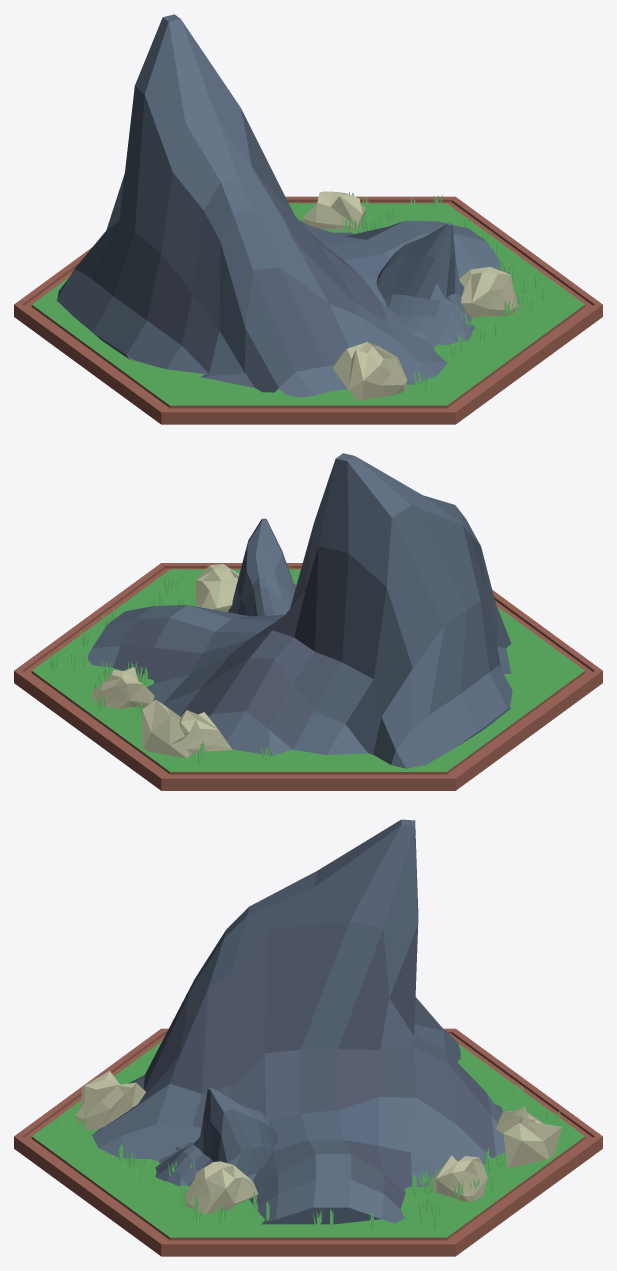
File: Hexagon_Mountain.glb
3 views of the same model, one above another, from view 1: azimuth 30°, elevation 25°; view 2: azimuth 150°, elevation 25°; view 3: azimuth 270°, elevation 25° (orthographic).
Parts seen in each view (by area): view 1: Plane, Circle, Plane.001, Sphere.005, Plane.017, Sphere.004, Sphere.001; view 2: Plane, Circle, Plane.001, Icosphere, Plane.017, Sphere.001, Sphere.004, Sphere.002; view 3: Plane, Circle, Plane.001, Plane.017, Sphere.004, Sphere.005, Icosphere, Sphere.001, Sphere.002.
Part boxes in pixels (box(x1,y1,x2,y2)): Plane: box(56, 14, 508, 397); Circle: box(14, 196, 602, 424); Plane.001: box(376, 223, 475, 346); Sphere.005: box(333, 342, 407, 400); Plane.017: box(292, 192, 546, 393); Sphere.004: box(459, 267, 518, 317); Sphere.001: box(302, 191, 365, 231); Plane: box(88, 453, 512, 768); Circle: box(14, 563, 602, 790); Plane.001: box(228, 518, 296, 616); Icosphere: box(142, 700, 191, 758); Plane.017: box(48, 565, 292, 764); Sphere.001: box(91, 667, 154, 708); Sphere.004: box(195, 564, 239, 612); Sphere.002: box(179, 710, 232, 753); Plane: box(91, 819, 505, 1224); Circle: box(14, 1028, 602, 1256); Plane.001: box(155, 1087, 277, 1186); Plane.017: box(61, 1084, 560, 1230); Sphere.004: box(183, 1161, 258, 1213); Sphere.005: box(75, 1070, 145, 1129); Icosphere: box(503, 1121, 562, 1168); Sphere.001: box(431, 1155, 487, 1201); Sphere.002: box(496, 1106, 544, 1135).
Size of the model in its own units: 30.17 by 18.56 by 34.84.
5 materials, 5 textured.
